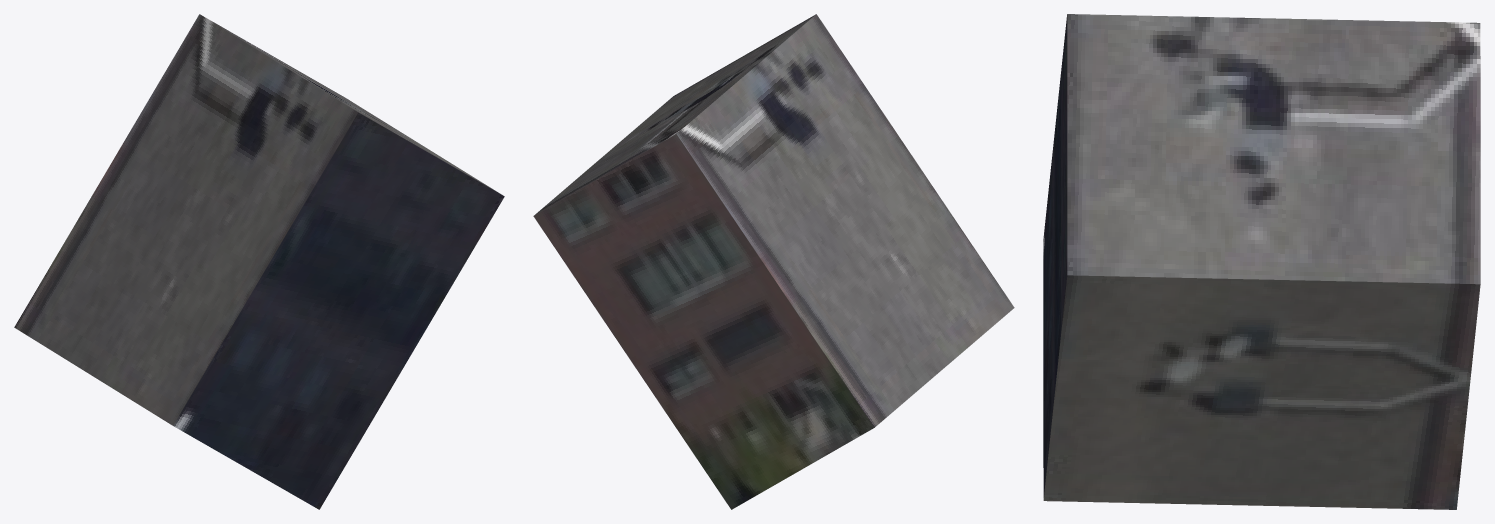
3 renders of one model, left to right at view 1: azimuth 30°, elevation 25°; view 2: azimuth 150°, elevation 25°; view 3: azimuth 270°, elevation 25°, orthographic. The views are drawn at different scales.
Visible parts, largest first — view 1: BAG_0599100000760431; view 2: BAG_0599100000760431; view 3: BAG_0599100000760431.
Boxes of the visible parts, x1,y1,x2,y2 form: BAG_0599100000760431: (14, 14, 504, 509); BAG_0599100000760431: (533, 14, 1014, 509); BAG_0599100000760431: (1043, 14, 1480, 509).
Bounding box in the file's own units: 13.02 × 13.93 × 10.35.
Materials: 2 (1 with a texture image).
